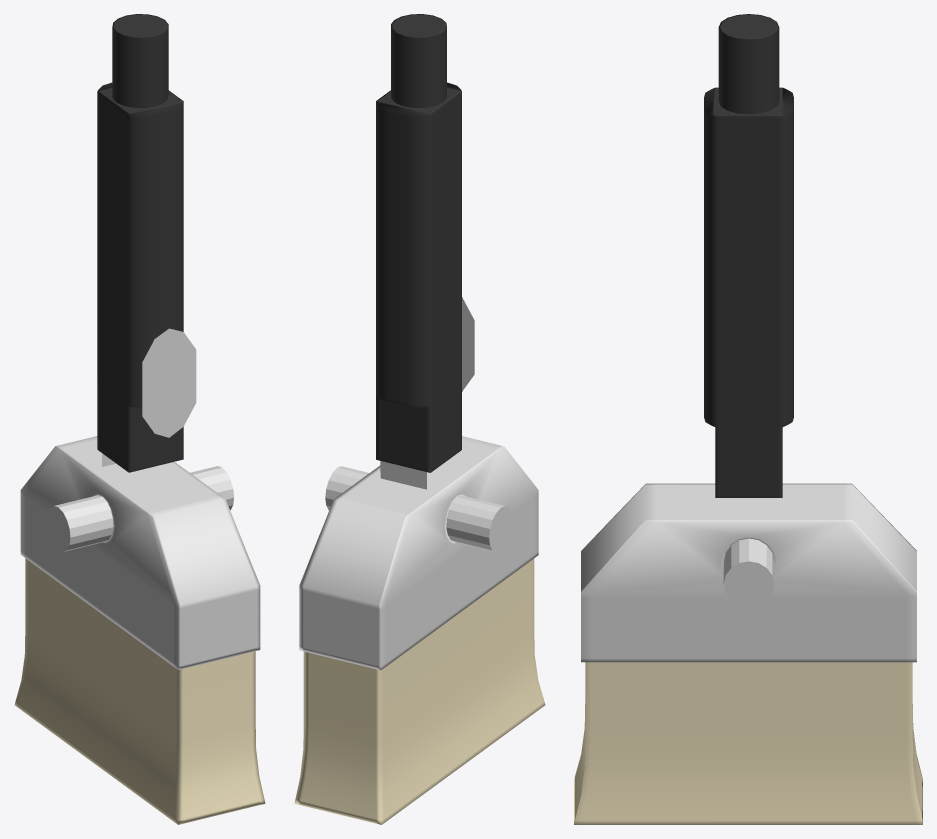
File: moonkit-brush.glb
The picture shows the model from 3 angles, left to right: view 1: azimuth 30°, elevation 25°; view 2: azimuth 150°, elevation 25°; view 3: azimuth 270°, elevation 25°; orthographic projection. The views are drawn at different scales.
Parts seen in each view (by area): view 1: bristles, brush holder, handle-main, Circle, hole; view 2: bristles, handle-main, brush holder, hole, Circle, handle-holders; view 3: bristles, brush holder, handle-main, hole.
Part boxes in pixels (x1,y1,x2,y2): bristles: (14, 558, 265, 824); brush holder: (20, 436, 260, 669); handle-main: (97, 14, 183, 472); Circle: (142, 328, 196, 437); hole: (47, 466, 233, 551); bristles: (294, 558, 545, 824); handle-main: (376, 14, 461, 472); brush holder: (299, 436, 538, 670); hole: (325, 466, 512, 552); Circle: (462, 297, 474, 391); handle-holders: (380, 461, 426, 489); bristles: (574, 662, 922, 824); brush holder: (581, 483, 916, 662); handle-main: (704, 14, 793, 497); hole: (723, 538, 774, 606).
Size of the model in its own units: 0.0762 by 0.3239 by 0.132.
